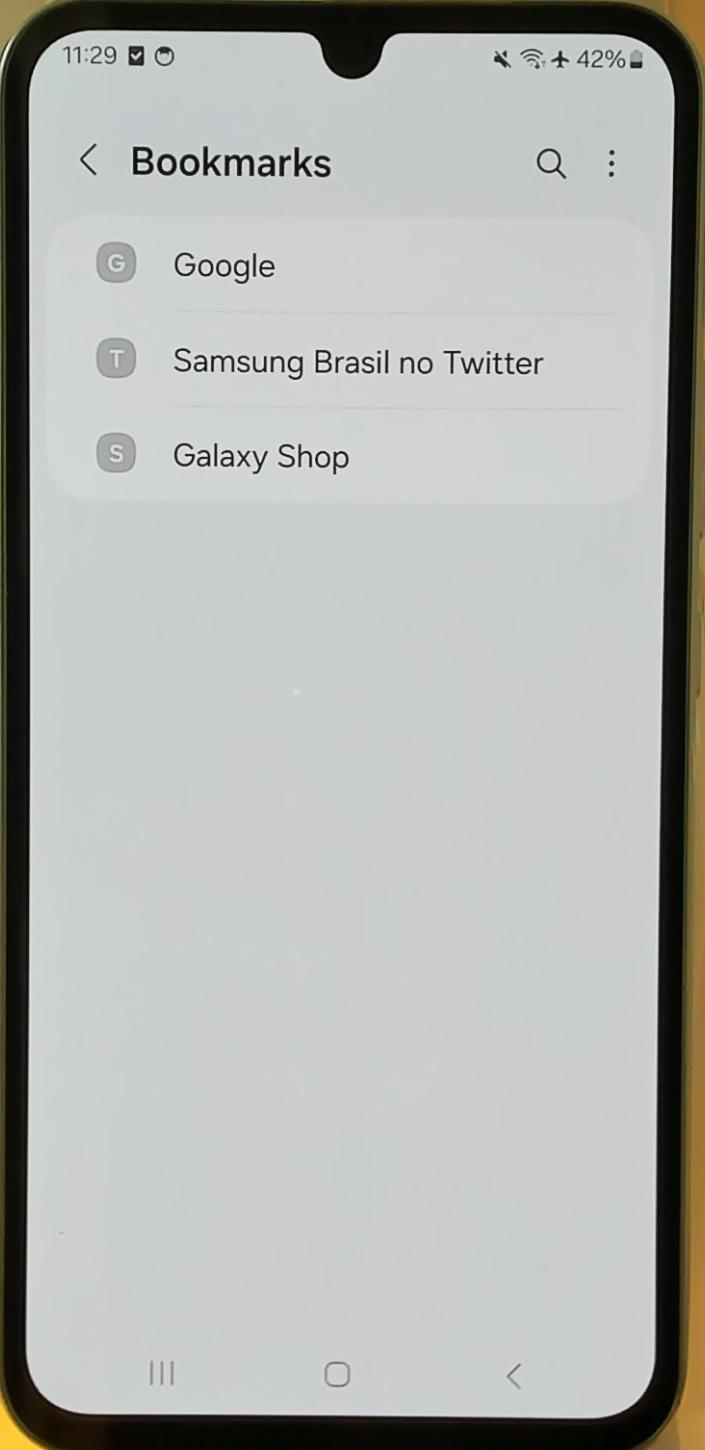CommunBotton: (90, 324, 554, 398), (84, 422, 362, 496), (90, 226, 288, 296), (140, 1344, 198, 1408), (310, 1344, 368, 1408), (522, 130, 572, 192), (494, 1342, 542, 1402), (68, 118, 106, 188)
menu: (598, 132, 628, 198)
